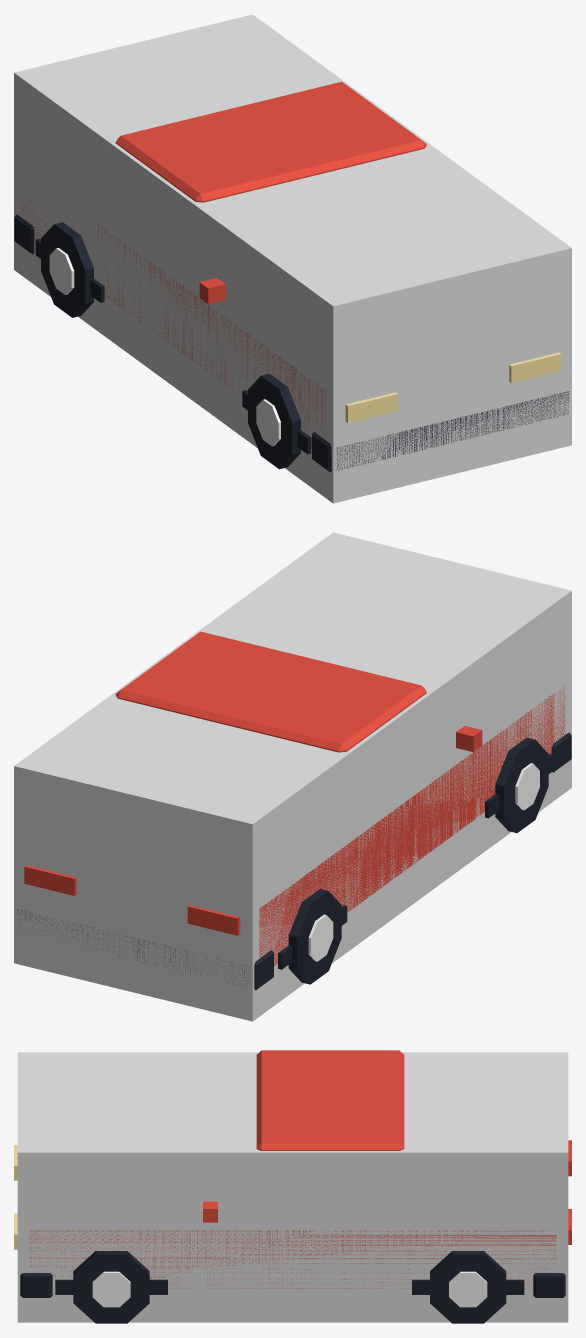
Rendered from sedan.glb.
The picture shows the model from 3 angles, top to bottom: view 1: azimuth 30°, elevation 25°; view 2: azimuth 150°, elevation 25°; view 3: azimuth 270°, elevation 25°; orthographic projection. The views are drawn at different scales.
Parts seen in each view (by area): view 1: COL_body, sedan, wheel_RL, wheel_FL; view 2: COL_body, sedan, wheel_FL, wheel_RL; view 3: COL_body, sedan, wheel_FR, wheel_RR.
Part boxes in pixels (x1,y1,x2,y2): COL_body: (14,14,571,503); sedan: (14,81,569,472); wheel_RL: (41,222,93,317); wheel_FL: (248,373,300,469); COL_body: (14,532,571,1021); sedan: (17,631,571,990); wheel_FL: (495,737,548,832); wheel_RL: (288,889,341,984); COL_body: (17,1052,568,1322); sedan: (14,1050,571,1297); wheel_FR: (73,1251,149,1323); wheel_RR: (430,1251,506,1323).
Bounding box in the file's own units: 2.18 × 1.55 × 4.46.
